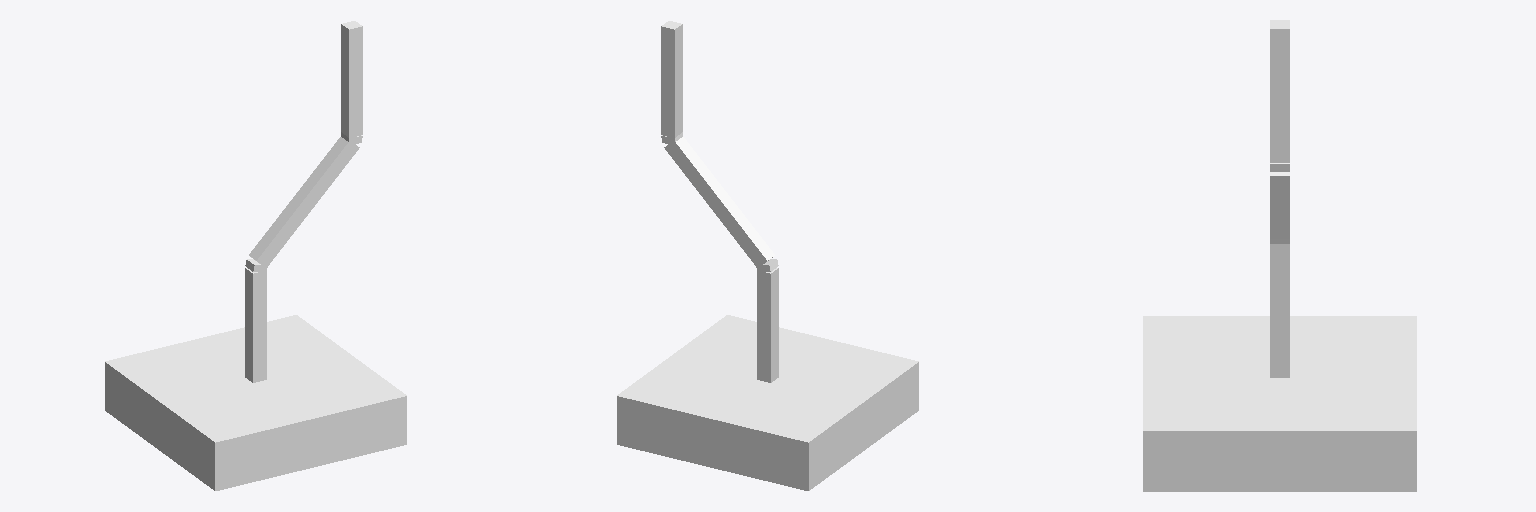
URDF robot description (maze_B):
<?xml version="1.0"?>
<robot name="maze_B">
  <link name="mazeLink">
    <material name="maze_white"><color rgba="1 1 1 1"/></material>
    <visual>
      <origin xyz="0.070000 -0.000000 0.192101" rpy="0.000000 3.141593 0.000000" />
      <geometry>
        <box size="0.010000 0.010000 0.075799" />
      </geometry>
      <material name="maze_white" />
    </visual>
    <collision>
      <origin xyz="0.070000 -0.000000 0.192101" rpy="0.000000 3.141593 0.000000" />
      <geometry>
        <box size="0.010000 0.010000 0.075799" />
      </geometry>
    </collision>
    <visual>
      <origin xyz="0.069686 -0.000000 0.151787" rpy="0.000000 3.012316 3.141593" />
      <geometry>
        <box size="0.010000 0.010000 0.004869" />
      </geometry>
      <material name="maze_white" />
    </visual>
    <collision>
      <origin xyz="0.069686 -0.000000 0.151787" rpy="0.000000 3.012316 3.141593" />
      <geometry>
        <box size="0.010000 0.010000 0.004869" />
      </geometry>
    </collision>
    <visual>
      <origin xyz="0.035188 -0.000000 0.115188" rpy="0.000000 2.356194 3.141593" />
      <geometry>
        <box size="0.010000 0.010000 0.096687" />
      </geometry>
      <material name="maze_white" />
    </visual>
    <collision>
      <origin xyz="0.035188 -0.000000 0.115188" rpy="0.000000 2.356194 3.141593" />
      <geometry>
        <box size="0.010000 0.010000 0.096687" />
      </geometry>
    </collision>
    <visual>
      <origin xyz="0.000502 -0.000000 0.078668" rpy="0.000000 2.929867 3.141593" />
      <geometry>
        <box size="0.010000 0.010000 0.004779" />
      </geometry>
      <material name="maze_white" />
    </visual>
    <collision>
      <origin xyz="0.000502 -0.000000 0.078668" rpy="0.000000 2.929867 3.141593" />
      <geometry>
        <box size="0.010000 0.010000 0.004779" />
      </geometry>
    </collision>
    <visual>
      <origin xyz="0.000000 -0.000000 0.038166" rpy="0.000000 3.141593 3.141593" />
      <geometry>
        <box size="0.010000 0.010000 0.076332" />
      </geometry>
      <material name="maze_white" />
    </visual>
    <collision>
      <origin xyz="0.000000 -0.000000 0.038166" rpy="0.000000 3.141593 3.141593" />
      <geometry>
        <box size="0.010000 0.010000 0.076332" />
      </geometry>
    </collision>
    <visual>
      <origin xyz="0 0 -0.017" rpy="0 0 0" />
      <geometry>
        <box size="0.14 0.14 0.034" />
      </geometry>
      <material name="maze_white" />
    </visual>
    <collision>
      <origin xyz="0 0 -0.017" rpy="0 0 0" />
      <geometry>
        <box size="0.14 0.14 0.034" />
      </geometry>
    </collision>
  </link>
</robot>

--- Render facts (derived) ---
Views: 3 orthographic renders of the robot side by side, from view 1: azimuth 30°, elevation 25°; view 2: azimuth 150°, elevation 25°; view 3: azimuth 270°, elevation 25°.
Robot: maze_B — 1 links, 0 joints (none); root link mazeLink; default pose: every joint at zero.
Links seen in each view (by area): view 1: mazeLink; view 2: mazeLink; view 3: mazeLink.
Link boxes in pixels (x1,y1,x2,y2): mazeLink: [105, 21, 406, 490]; mazeLink: [617, 21, 918, 490]; mazeLink: [1143, 20, 1416, 491].
Bounding box of the posed robot: 0.145 × 0.14 × 0.264 m (x, y, z).
Geometry: primitives only (box / cylinder / sphere), no mesh files.
